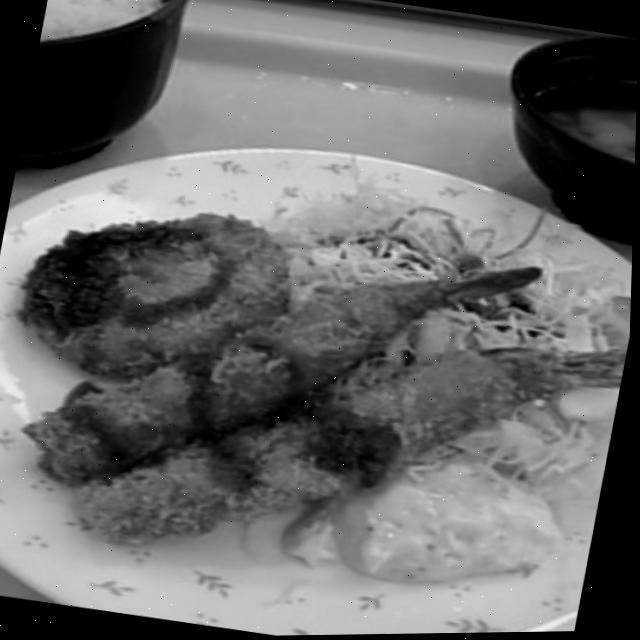炸货点心: (11, 183, 636, 616)
米饭主食: (17, 0, 193, 183)
